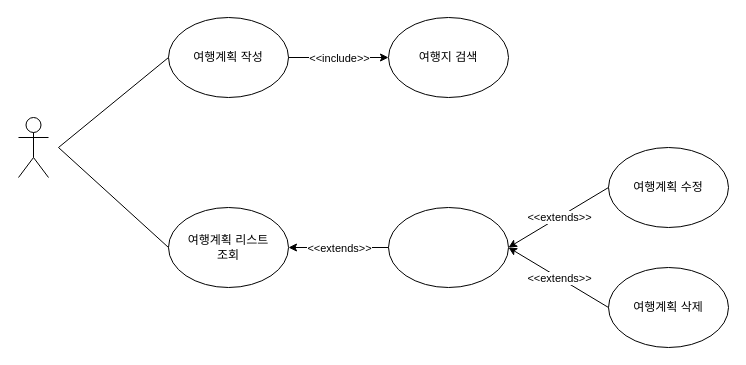
Image size: 746x365. Some labels were removed from this diagram. The shapes that lost their labels are listed below. From the top down, each one's centre as x and y in pixels, then its label:
pixel 33 147: 사용자
pixel 448 247: 여행계획 상세 조회
